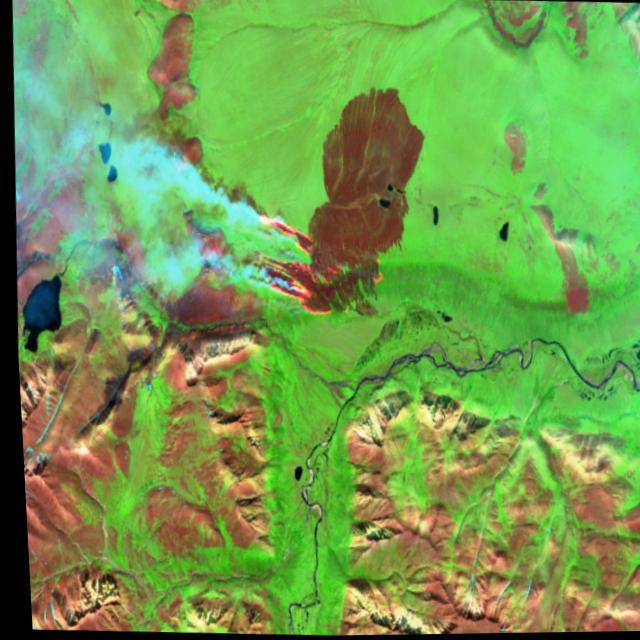fire: (224, 200, 387, 325)
